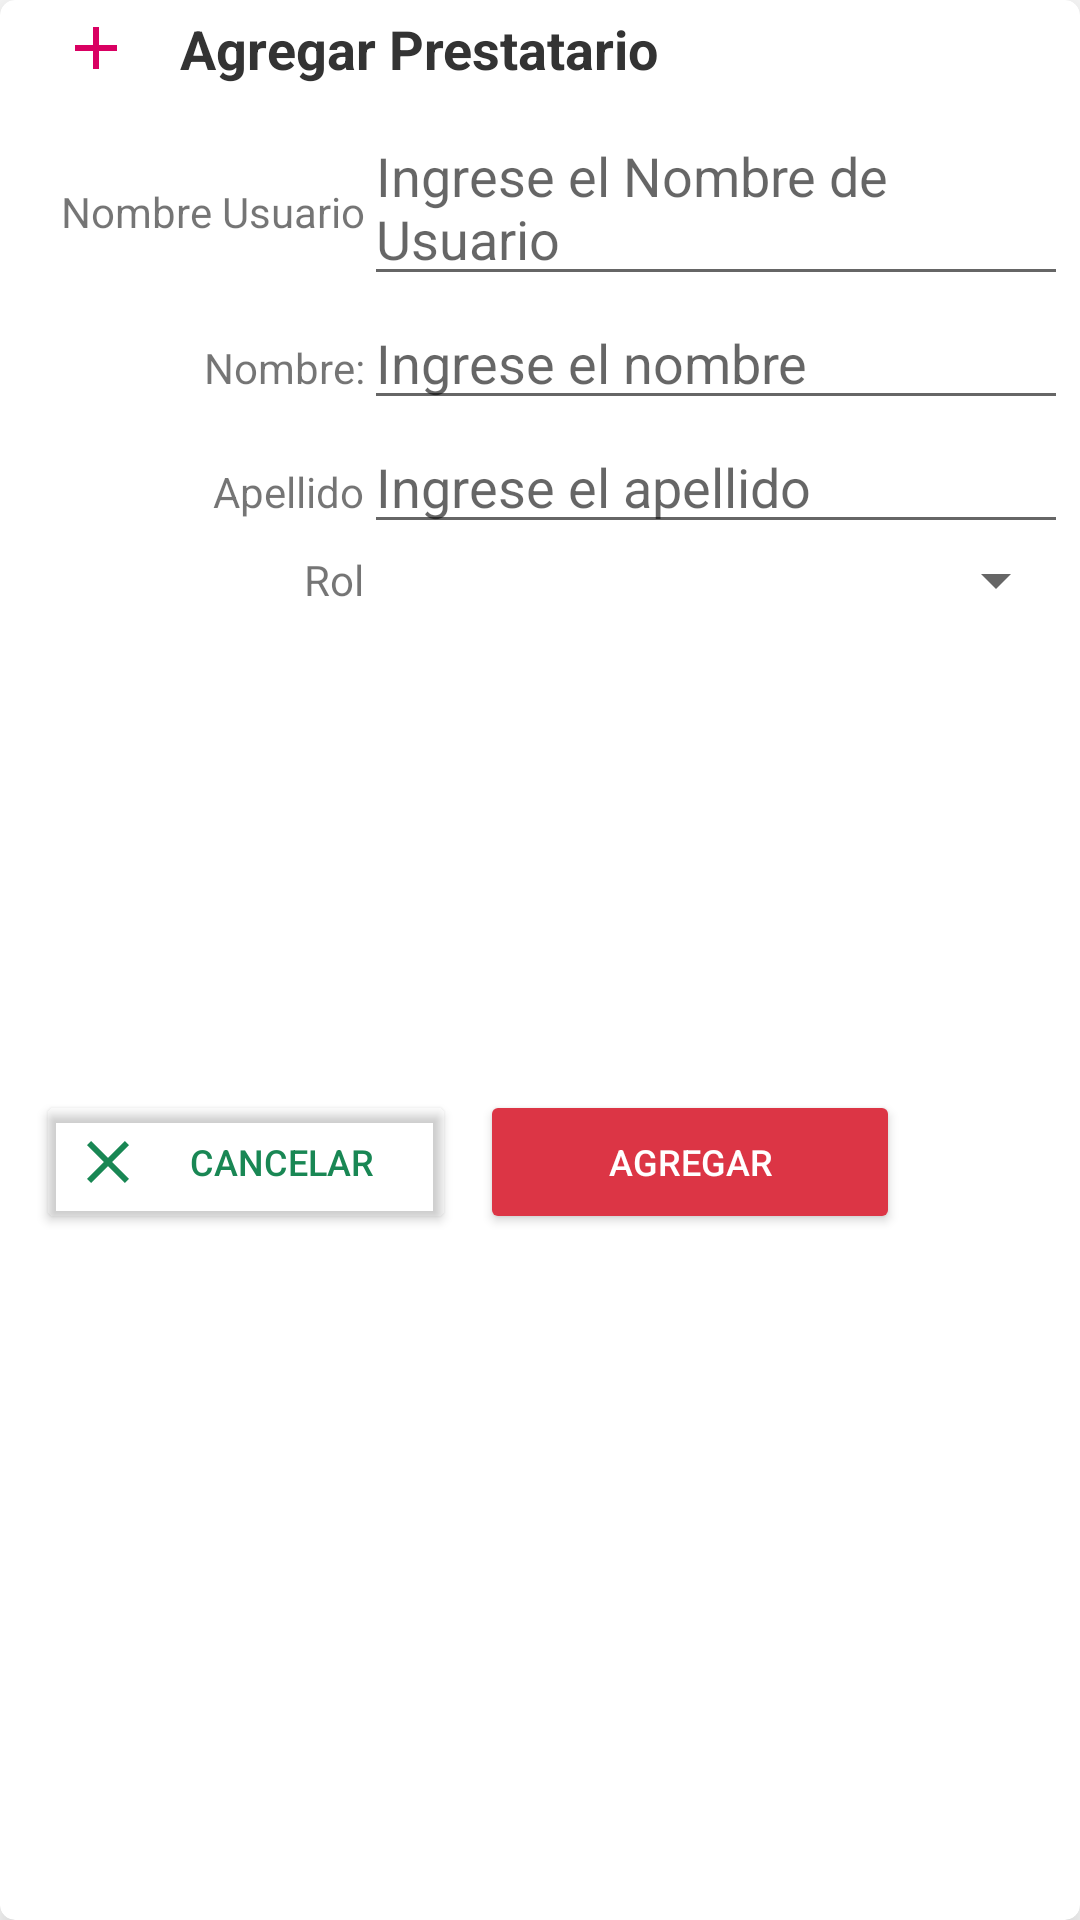

Icon click points for this 1080 × 1920 phone screenshot, format point (x, y):
add first: point (96, 48)
